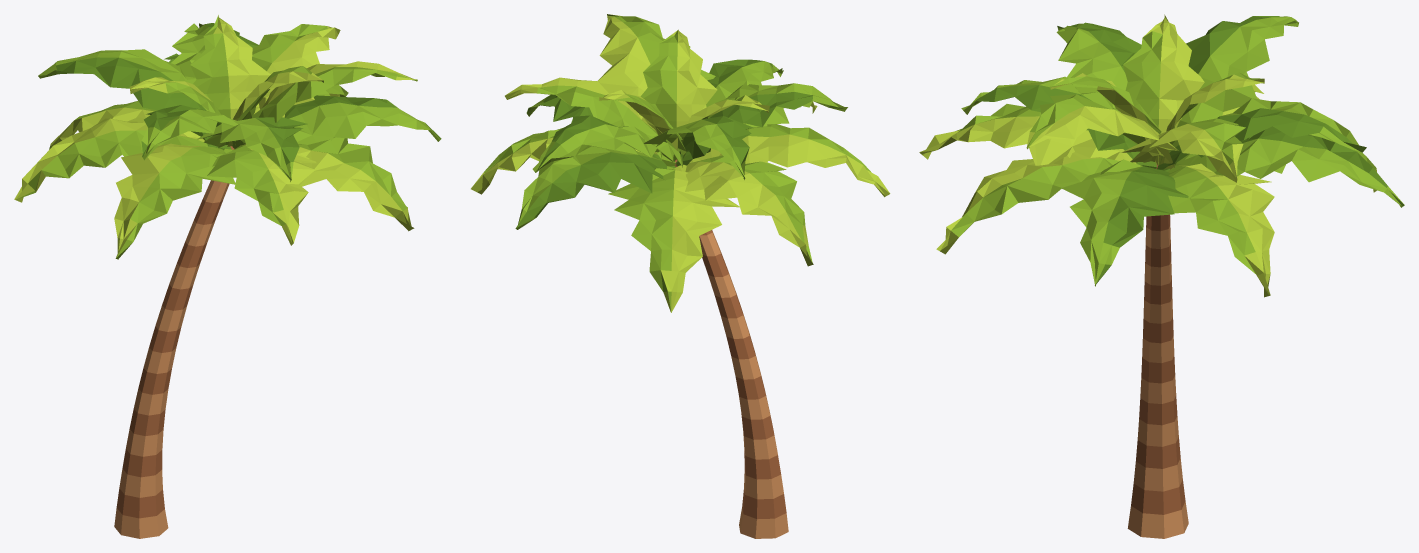
File: nmg_palm_lean.glb
3 views of the same model, side by side, from view 1: azimuth 30°, elevation 25°; view 2: azimuth 150°, elevation 25°; view 3: azimuth 270°, elevation 25° (orthographic). The views are drawn at different scales.
Visible parts, largest first — view 1: nmg_palm_lean; view 2: nmg_palm_lean; view 3: nmg_palm_lean.
Part boxes in pixels (x1,y1,x2,y2): nmg_palm_lean: (14,15,441,538); nmg_palm_lean: (471,14,890,538); nmg_palm_lean: (919,14,1404,538).
Size of the model in its own units: 5.09 by 6.06 by 5.14.
